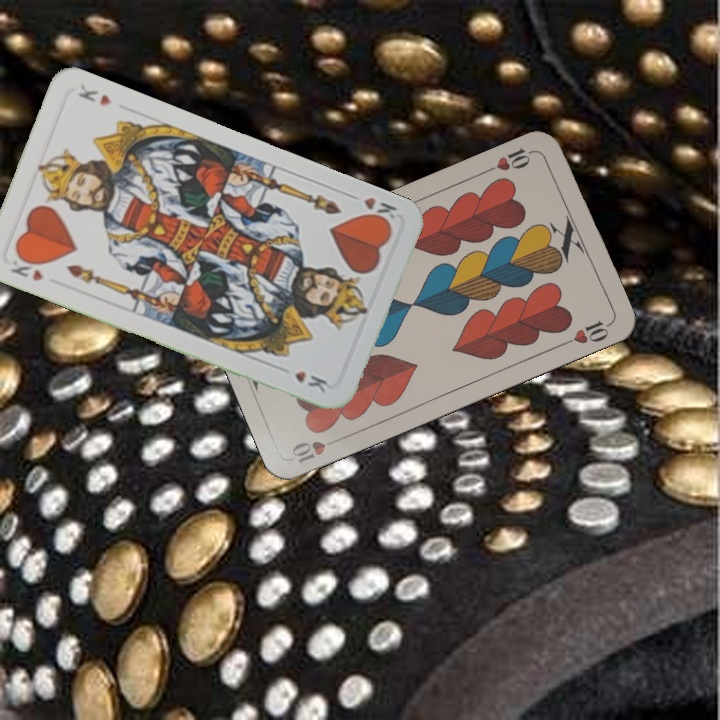H10: (287, 433, 345, 466), (482, 144, 538, 176)
HK: (344, 189, 400, 229), (6, 251, 46, 284)
